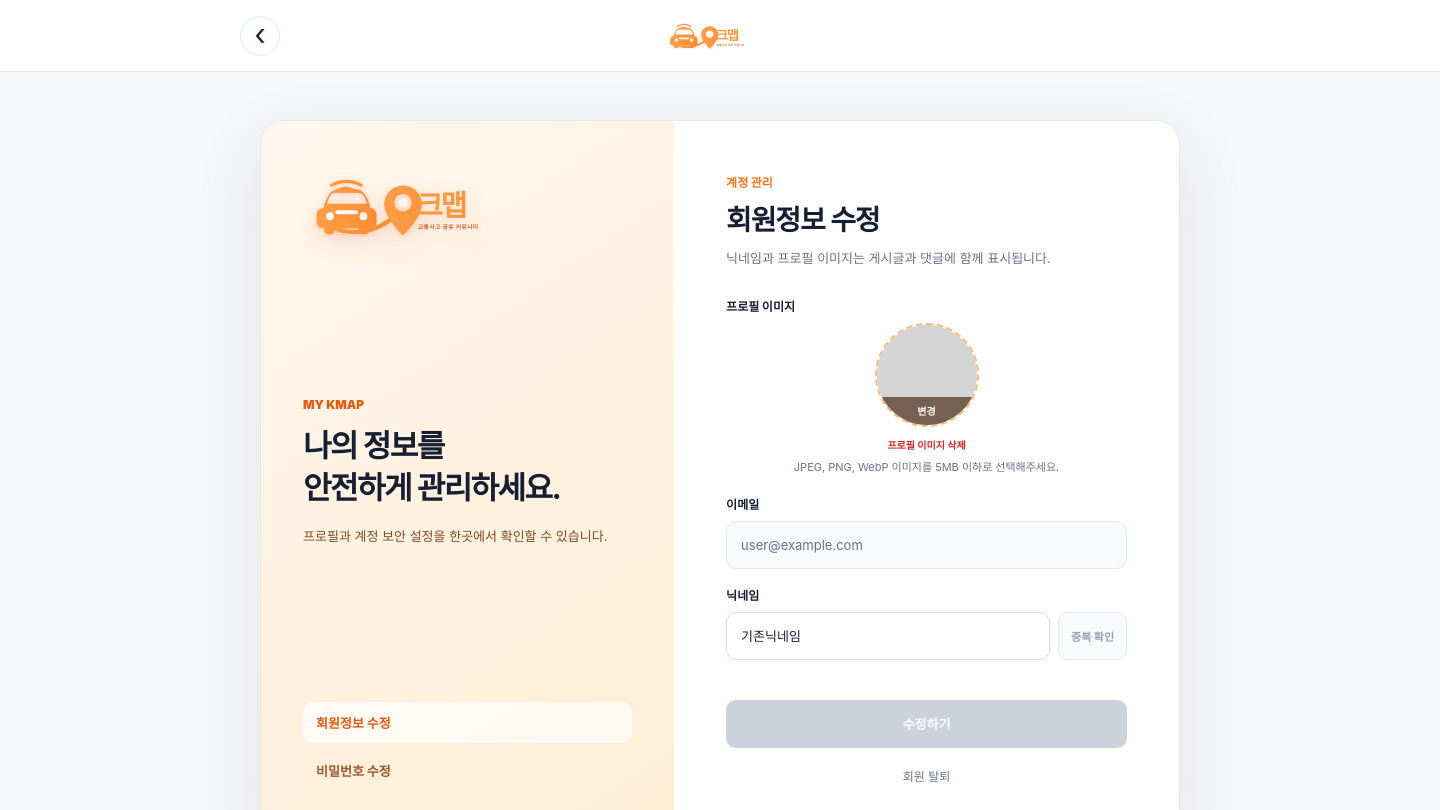
Test: ProfileSettingsPage › 새 닉네임의 중복 확인 후 사용자 상태를 교체한다
The image size is (1440, 810).
Replace the text in the field labelled "닉네임" with "새닉네임". click: (888, 636)
box: left=726, top=612, right=1050, bottom=660
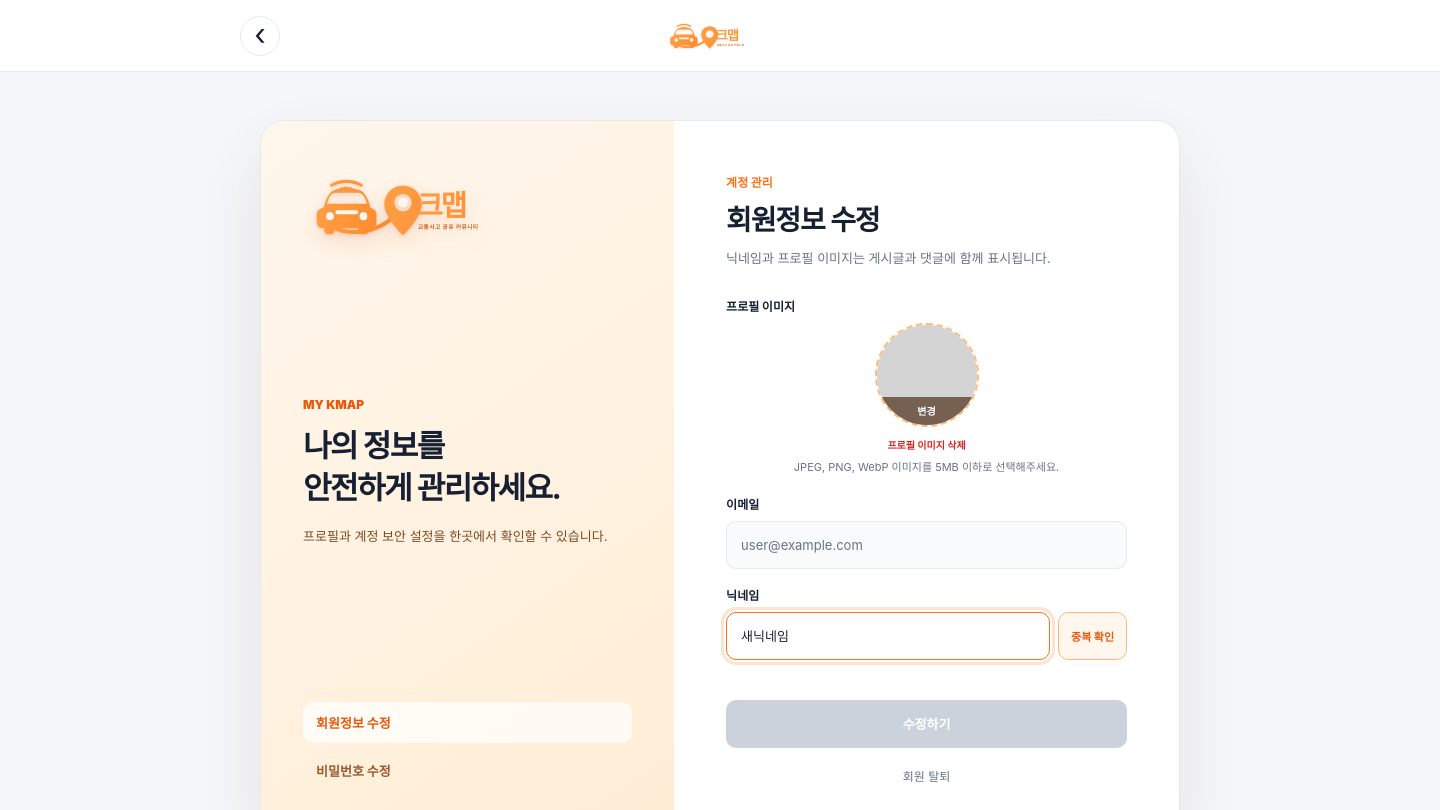
Click the button "중복 확인". click: (1093, 636)
box: left=1058, top=612, right=1127, bottom=660
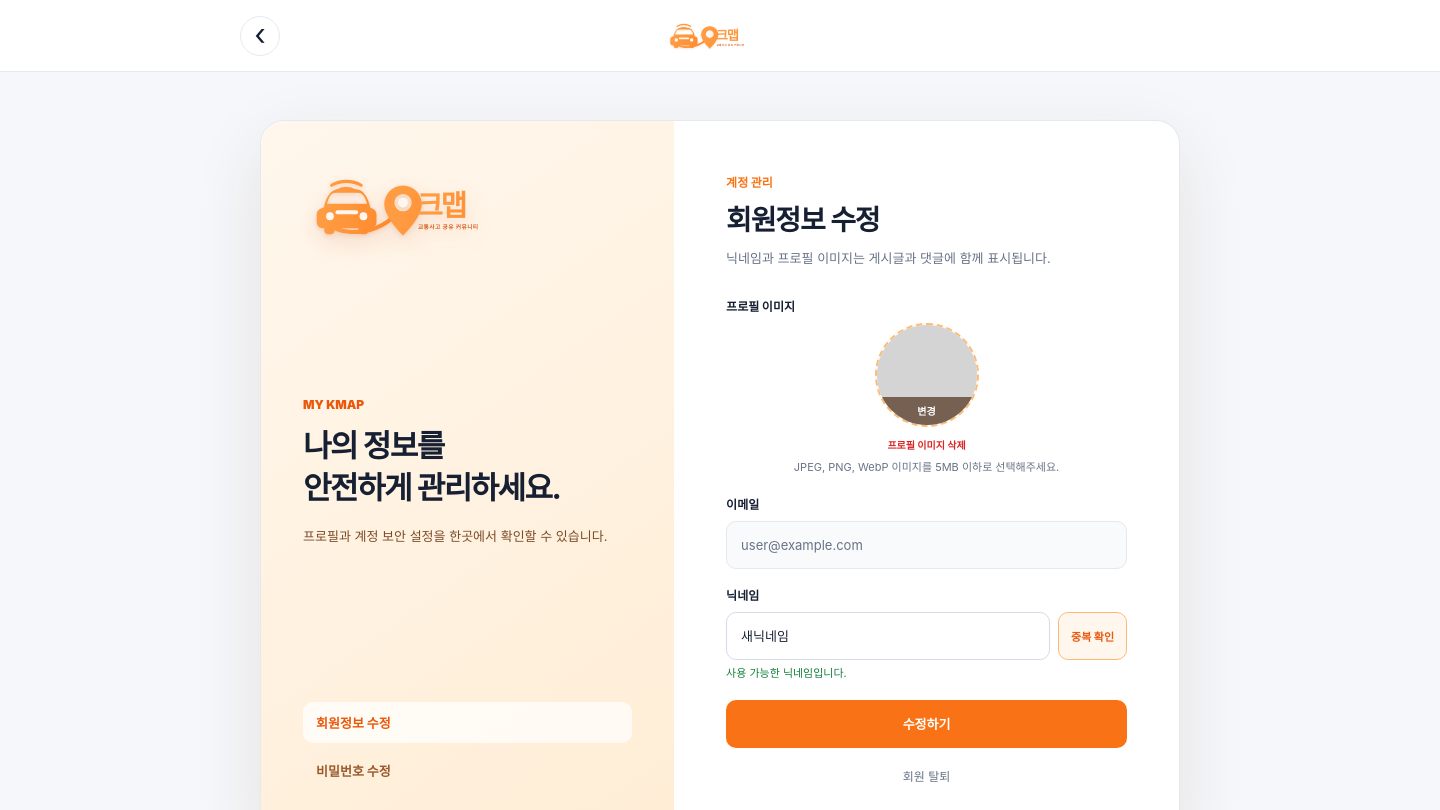
Check: the text "사용 가능한 닉네임입니다." is shown, box left=726, top=666, right=847, bottom=680
Click the button "수정하기". click: (927, 724)
box: left=726, top=700, right=1127, bottom=748
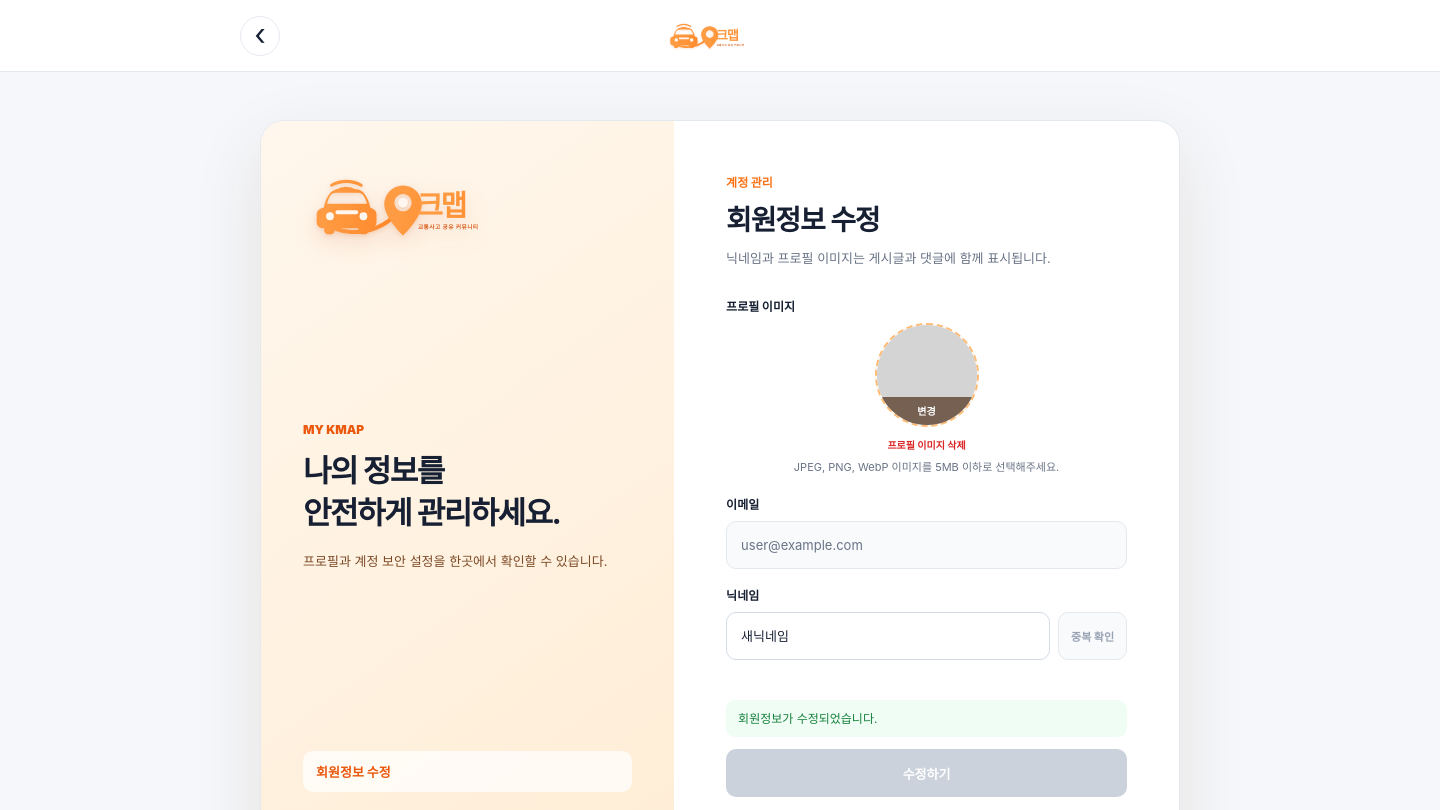
Check: the message reads "회원정보가 수정되었습니다.", box left=738, top=711, right=877, bottom=726
